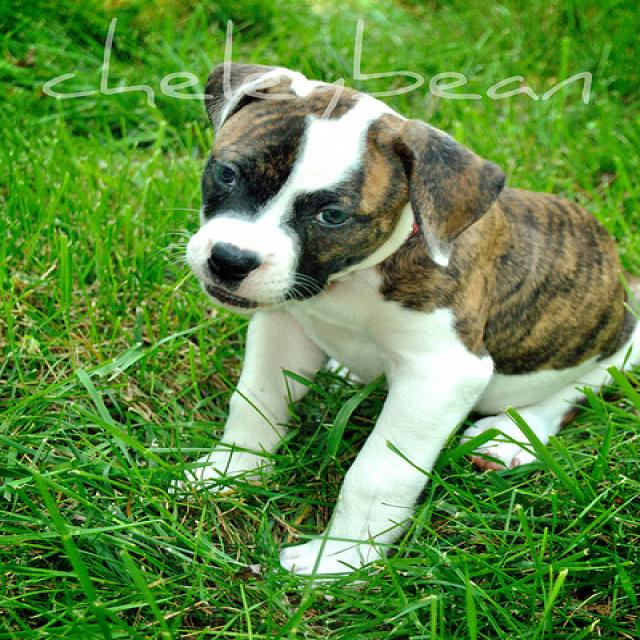dog-american_bulldog: (157, 51, 637, 588)
